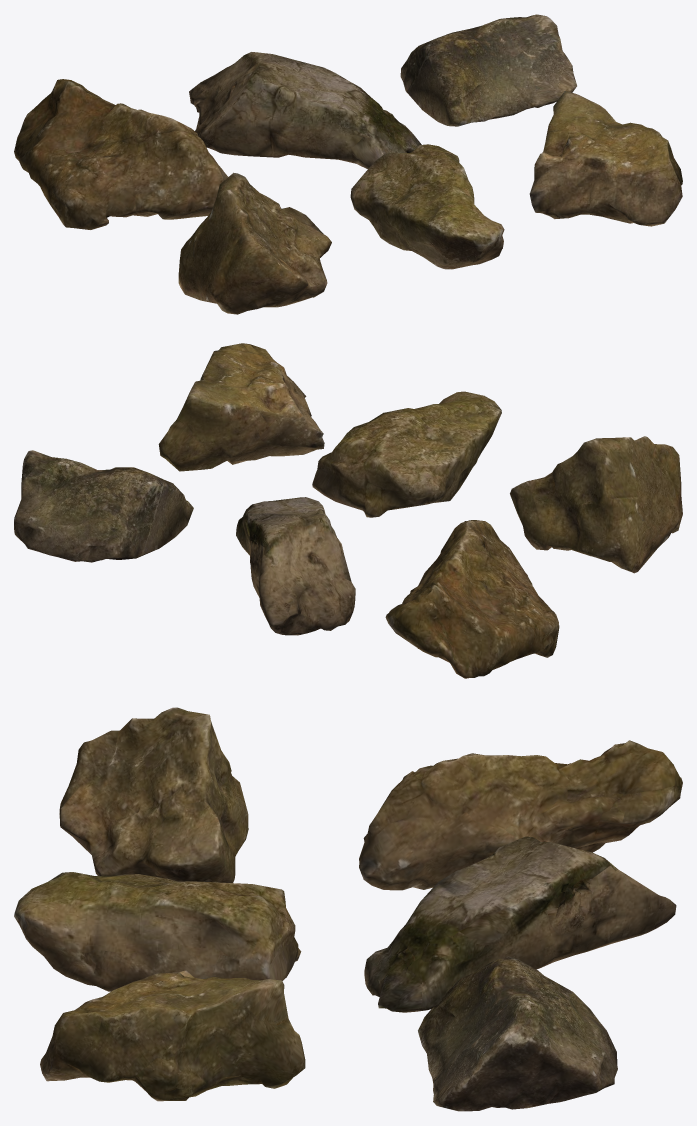
The model's file is rock_moss_set_01.glb.
3 renders of one model, top to bottom at view 1: azimuth 30°, elevation 25°; view 2: azimuth 150°, elevation 25°; view 3: azimuth 270°, elevation 25°, orthographic. The views are drawn at different scales.
Bounding box in the file's own units: 8 × 1.76 × 6.94.
Materials: 1 (1 with a texture image).
